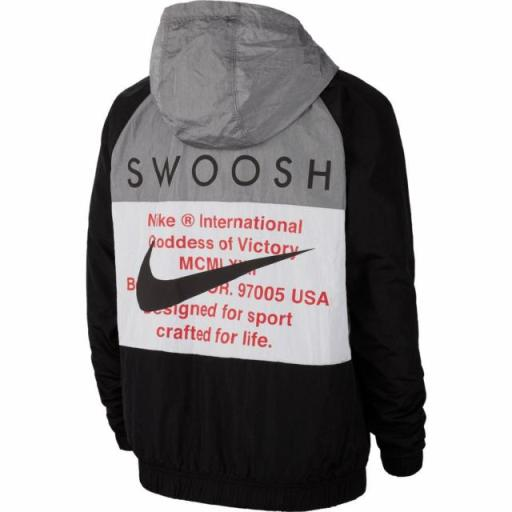Nike: (124, 238, 326, 316)
